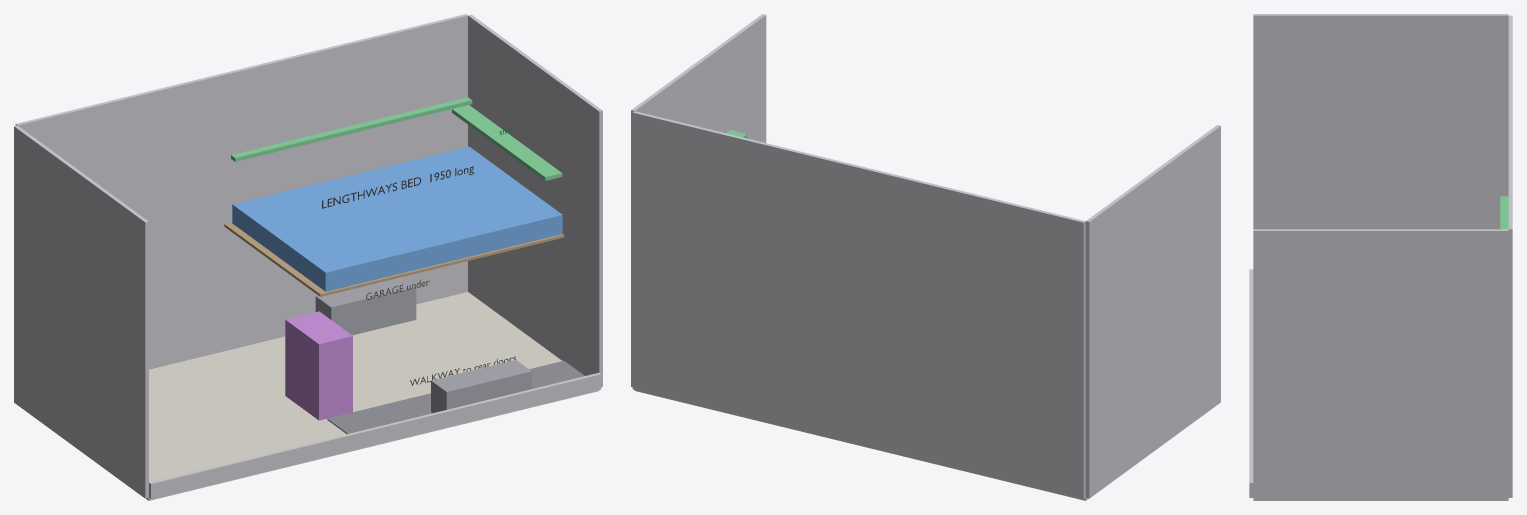
File: van_bed_lengthways.glb
The picture shows the model from 3 angles, left to right: view 1: azimuth 30°, elevation 25°; view 2: azimuth 150°, elevation 25°; view 3: azimuth 270°, elevation 25°; orthographic projection. The views are drawn at different scales.
Parts seen in each view (by area): view 1: Wall_Road, Bulkhead, Floor, Rear_Wall, Mattress, Sill_Kerb, Night_Foot, Arch_R, Arch_K, Walkway_Mark, Shelf_RoadSide, Garage_Top (+2 smaller); view 2: Wall_Road, Bulkhead, Rear_Wall, Floor; view 3: Rear_Wall, Bulkhead, Wall_Road, Sill_Kerb, Floor, Shelf_RoadSide.
Boxes of the visible parts, x1,y1,x2,y2 form: Wall_Road: (15,14,467,369); Bulkhead: (14,125,148,498); Floor: (146,292,599,500); Rear_Wall: (468,14,602,387); Mattress: (232,146,562,291); Sill_Kerb: (149,372,601,499); Night_Foot: (285,311,352,420); Arch_R: (315,277,416,335); Arch_K: (431,360,531,413); Walkway_Mark: (327,361,584,433); Shelf_RoadSide: (231,97,472,161); Garage_Top: (224,222,564,296); Wall_Road: (632,111,1085,499); Bulkhead: (1085,125,1220,498); Rear_Wall: (631,14,766,386); Floor: (634,390,1088,500); Rear_Wall: (1253,229,1508,499); Bulkhead: (1253,14,1508,229); Wall_Road: (1508,15,1512,497); Sill_Kerb: (1249,269,1253,497); Floor: (1253,499,1508,500); Shelf_RoadSide: (1500,196,1508,229).
Size of the model in its own units: 3.77 by 2.2 by 1.93.
